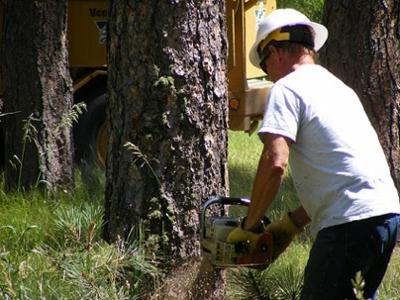person: (227, 8, 400, 300)
